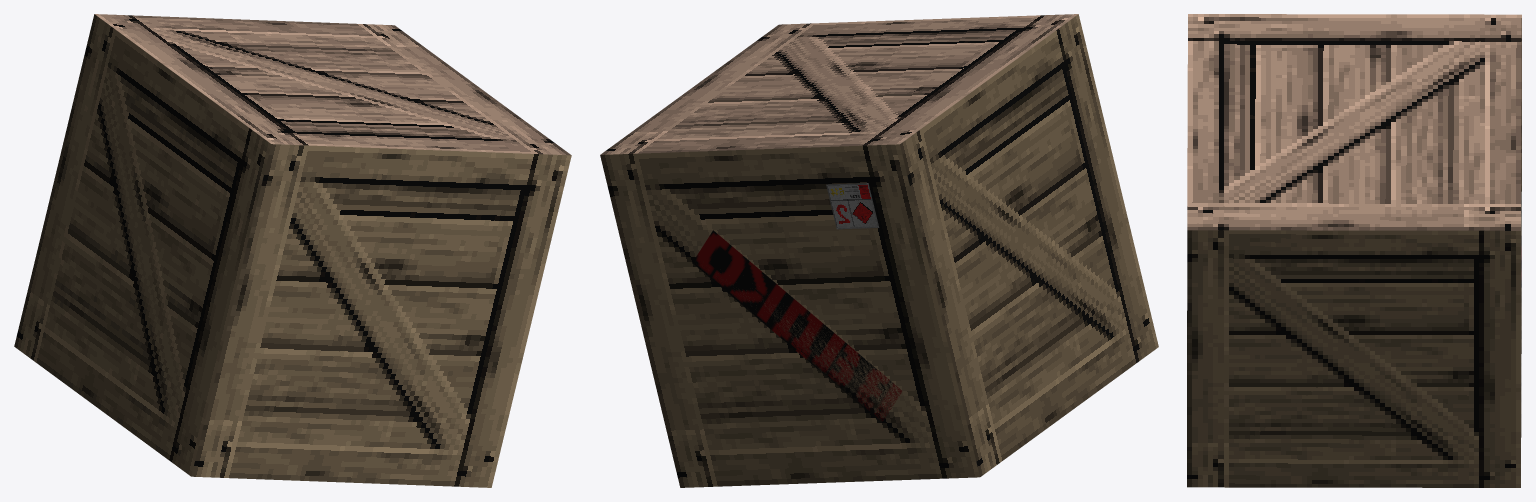
Rendered from primary_166.glb.
3 views of the same model, side by side, from view 1: azimuth 30°, elevation 25°; view 2: azimuth 150°, elevation 25°; view 3: azimuth 270°, elevation 25° (orthographic). The views are drawn at different scales.
Parts seen in each view (by area): view 1: Object; view 2: Object; view 3: Object.
Part boxes in pixels (box(x1,y1,x2,y2)): Object: box(14, 14, 571, 487); Object: box(600, 14, 1158, 487); Object: box(1187, 14, 1521, 487).
Size of the model in its own units: 1.68 by 1.68 by 1.36.
7 materials, 7 textured.
